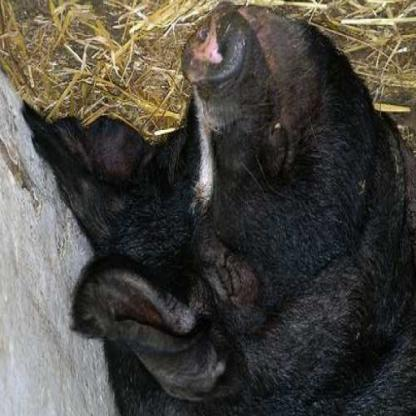boar: (125, 16, 415, 384)
